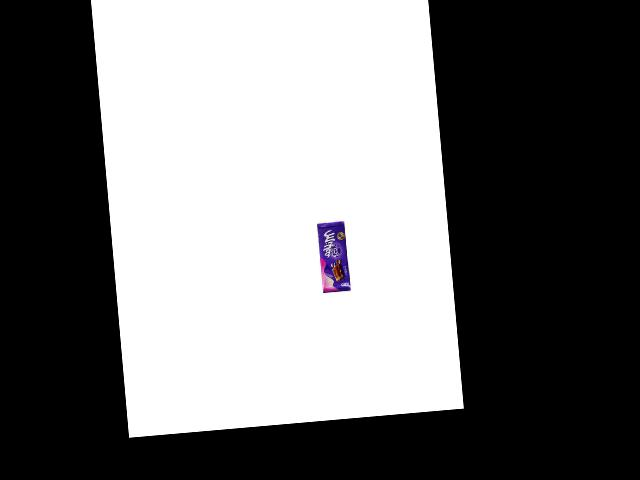chocolate: (316, 220, 351, 292)
